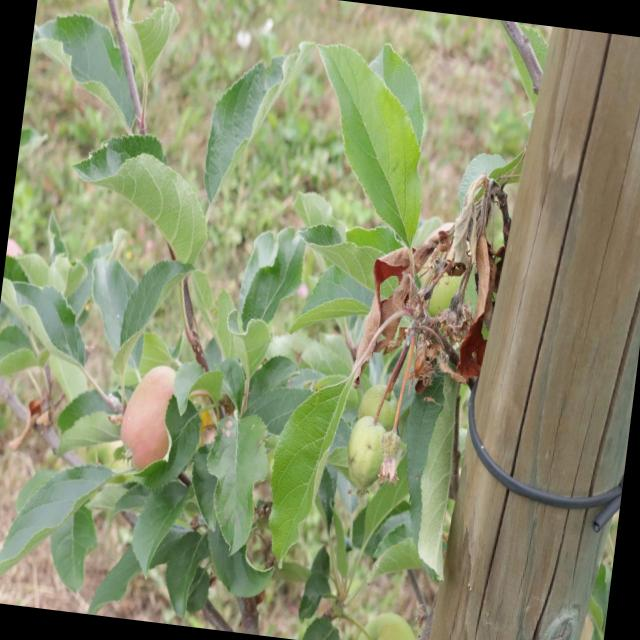-FireBlight-: (351, 169, 529, 394)
